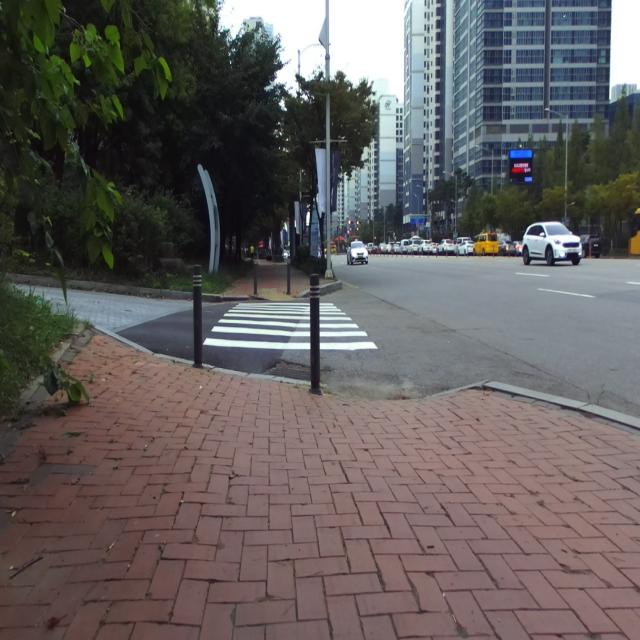횡단보도: (202, 303, 378, 349)
